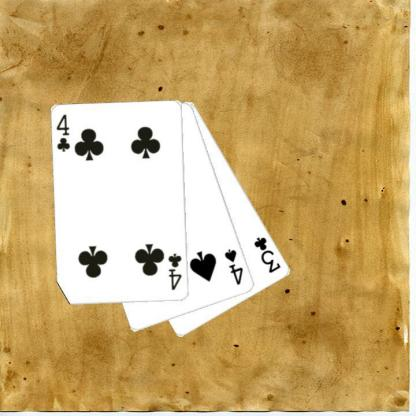3C: (252, 234, 283, 274)
4C: (53, 112, 72, 154), (166, 251, 183, 292)
4S: (222, 246, 245, 286)
